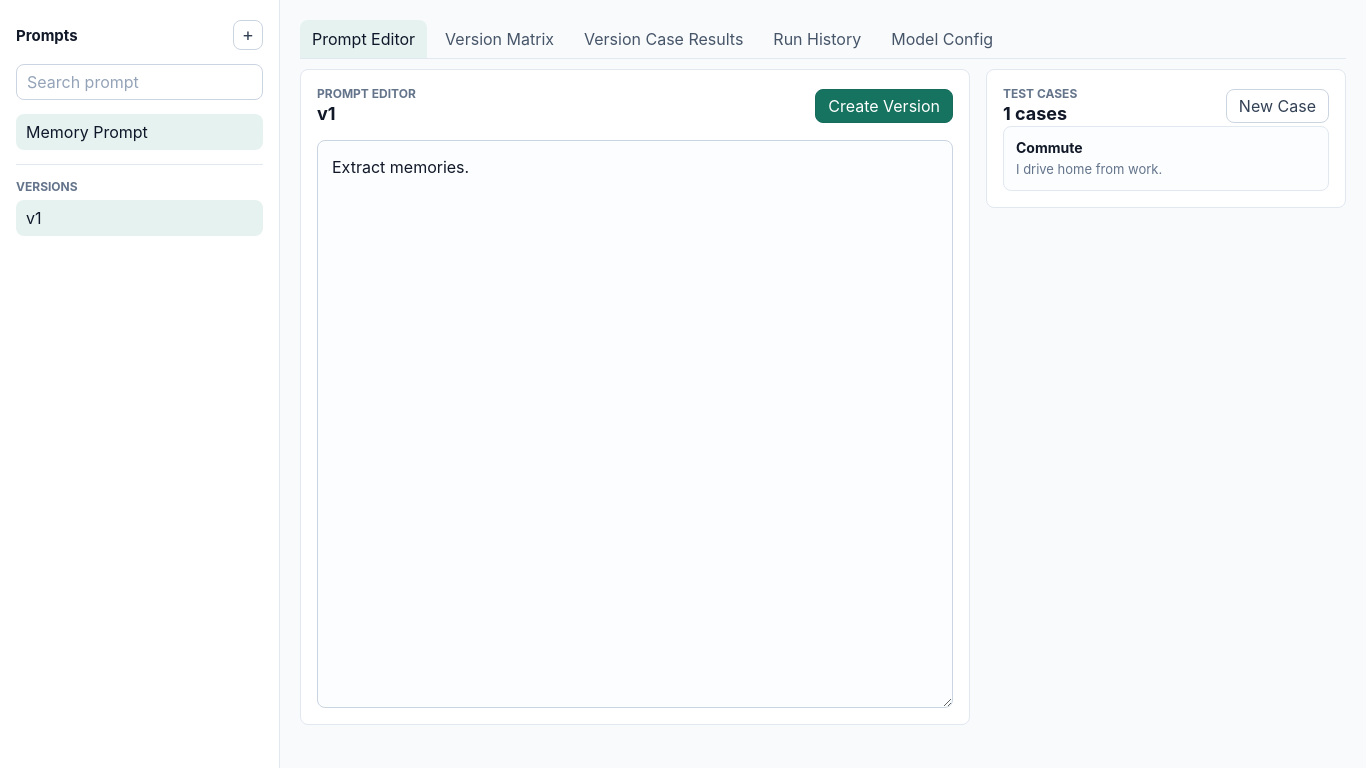
Test: App prompt creation › moves to model config when a run model is missing
This screenshot has width=1366, height=768.
Expected: the text "Commute" is shown, [1016,138,1082,156]
Click the button "Version Matrix".
click(500, 39)  # box [433,20,566,58]
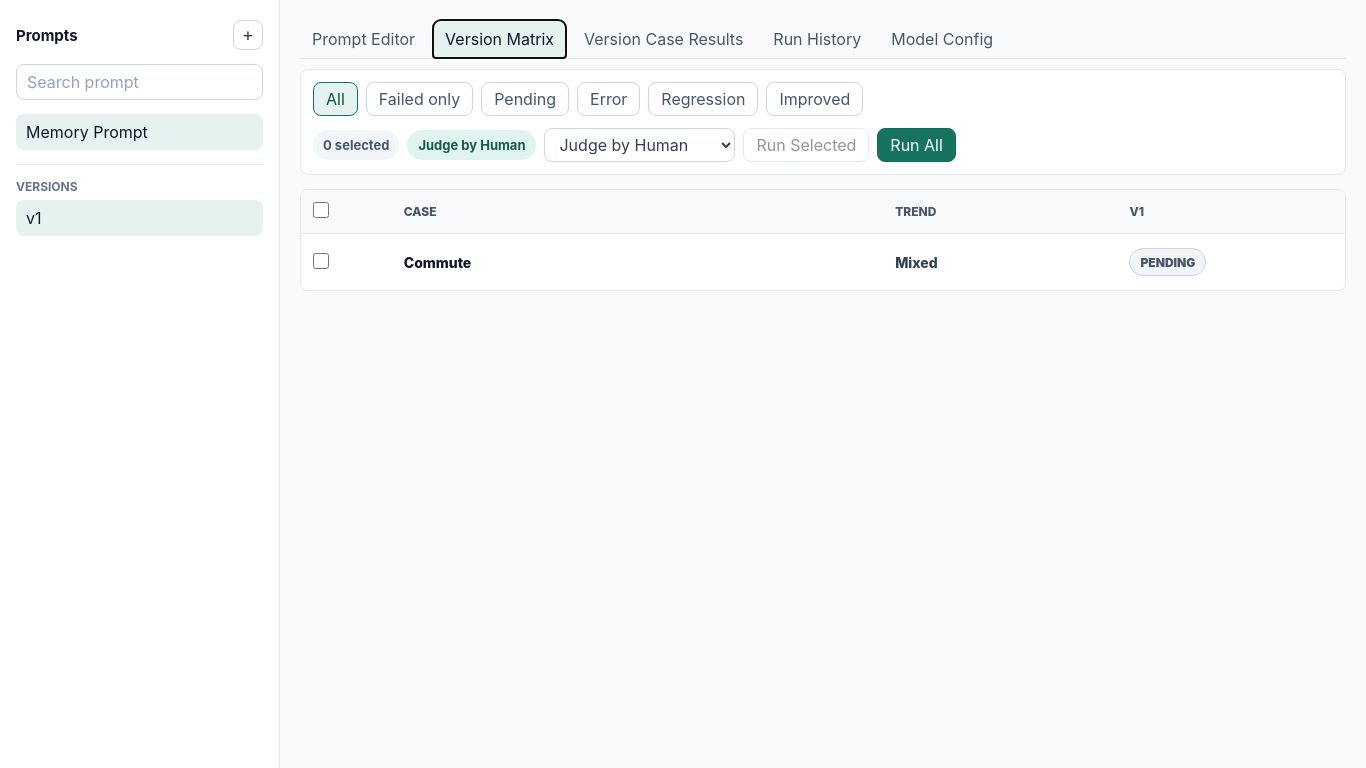
Click the button "Run All".
click(917, 145)  # box [877,128,956,162]
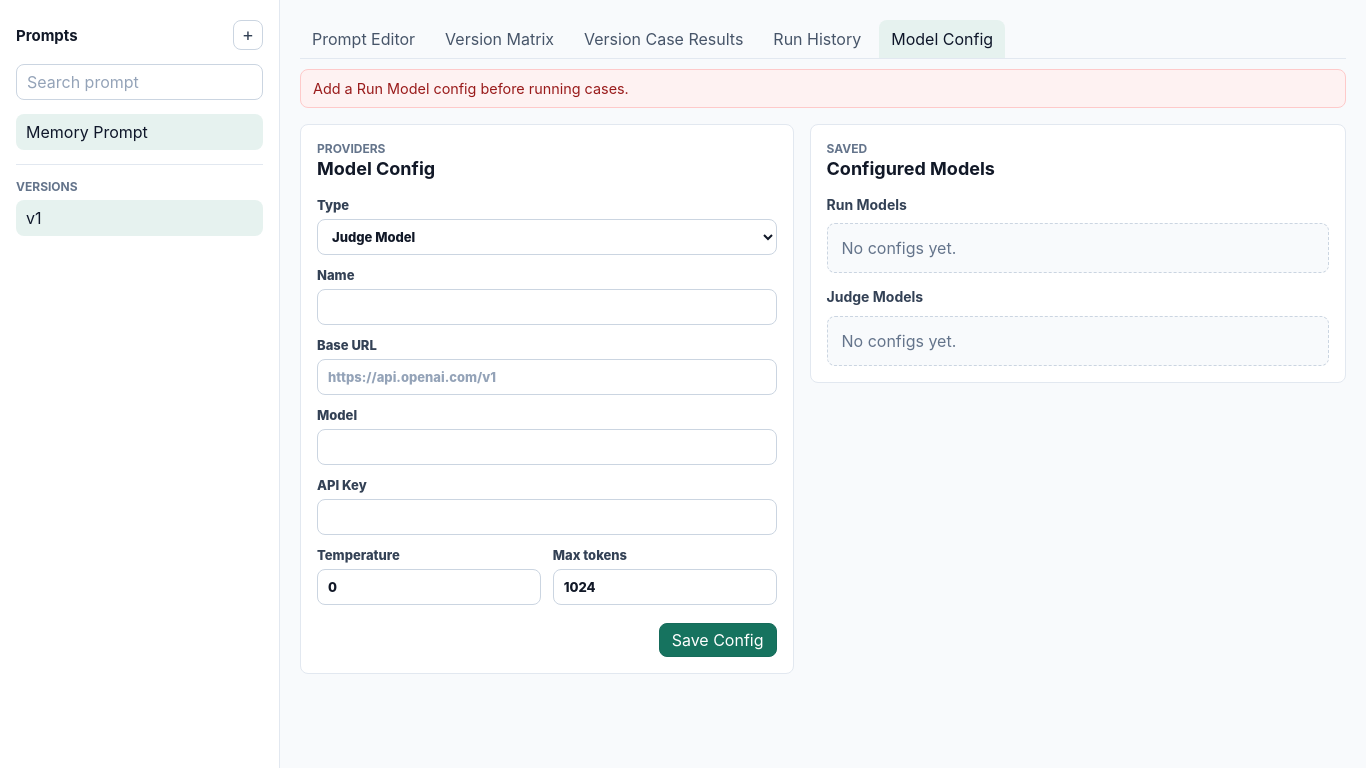
Expected: the heading "Model Config" is shown, [317,158,435,180]
Expected: the text "Add a Run Model config before running cases." is shown, [300,69,1346,108]
